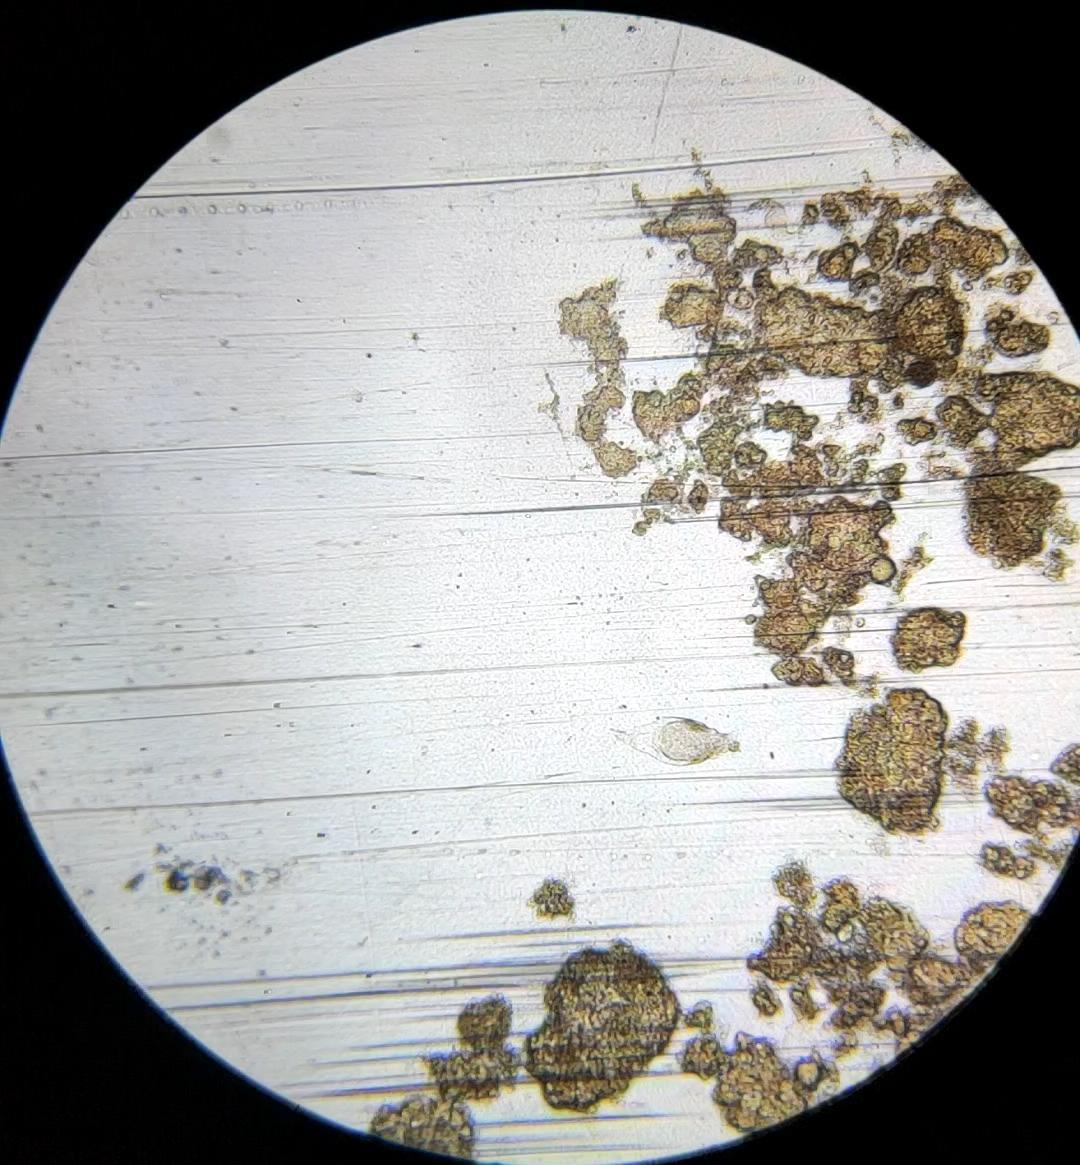Do: (608, 717, 742, 766)
